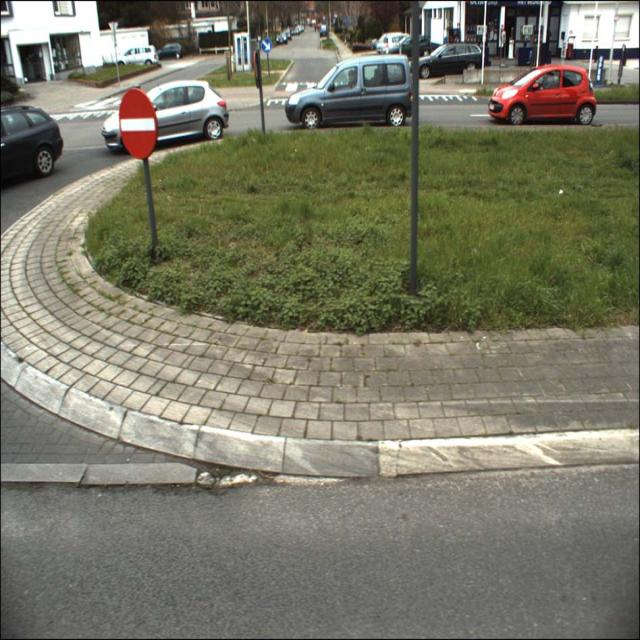girisyok: (118, 88, 156, 159)
